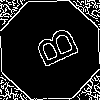B: (25, 25, 80, 74)
